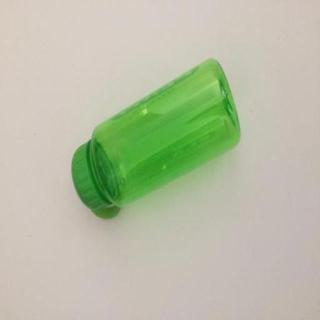Plastic-bottle: (72, 58, 242, 220)
